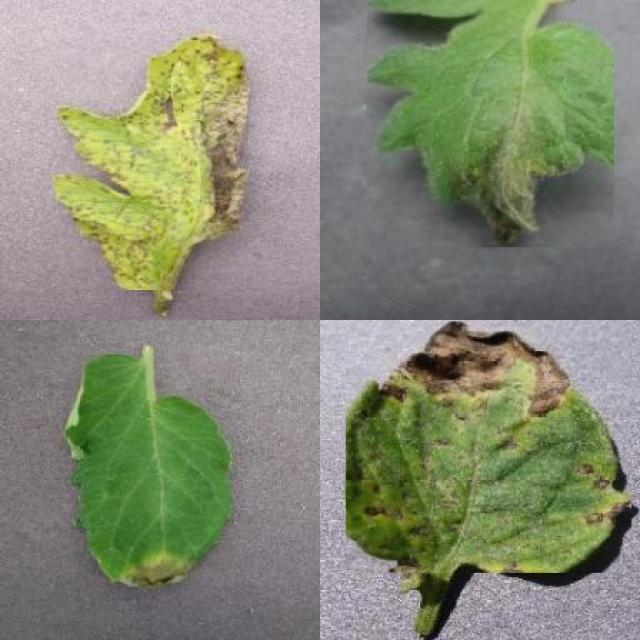Late Blight: (367, 0, 614, 247), (63, 355, 234, 588)
Septoria: (347, 322, 632, 574), (52, 29, 248, 290)
